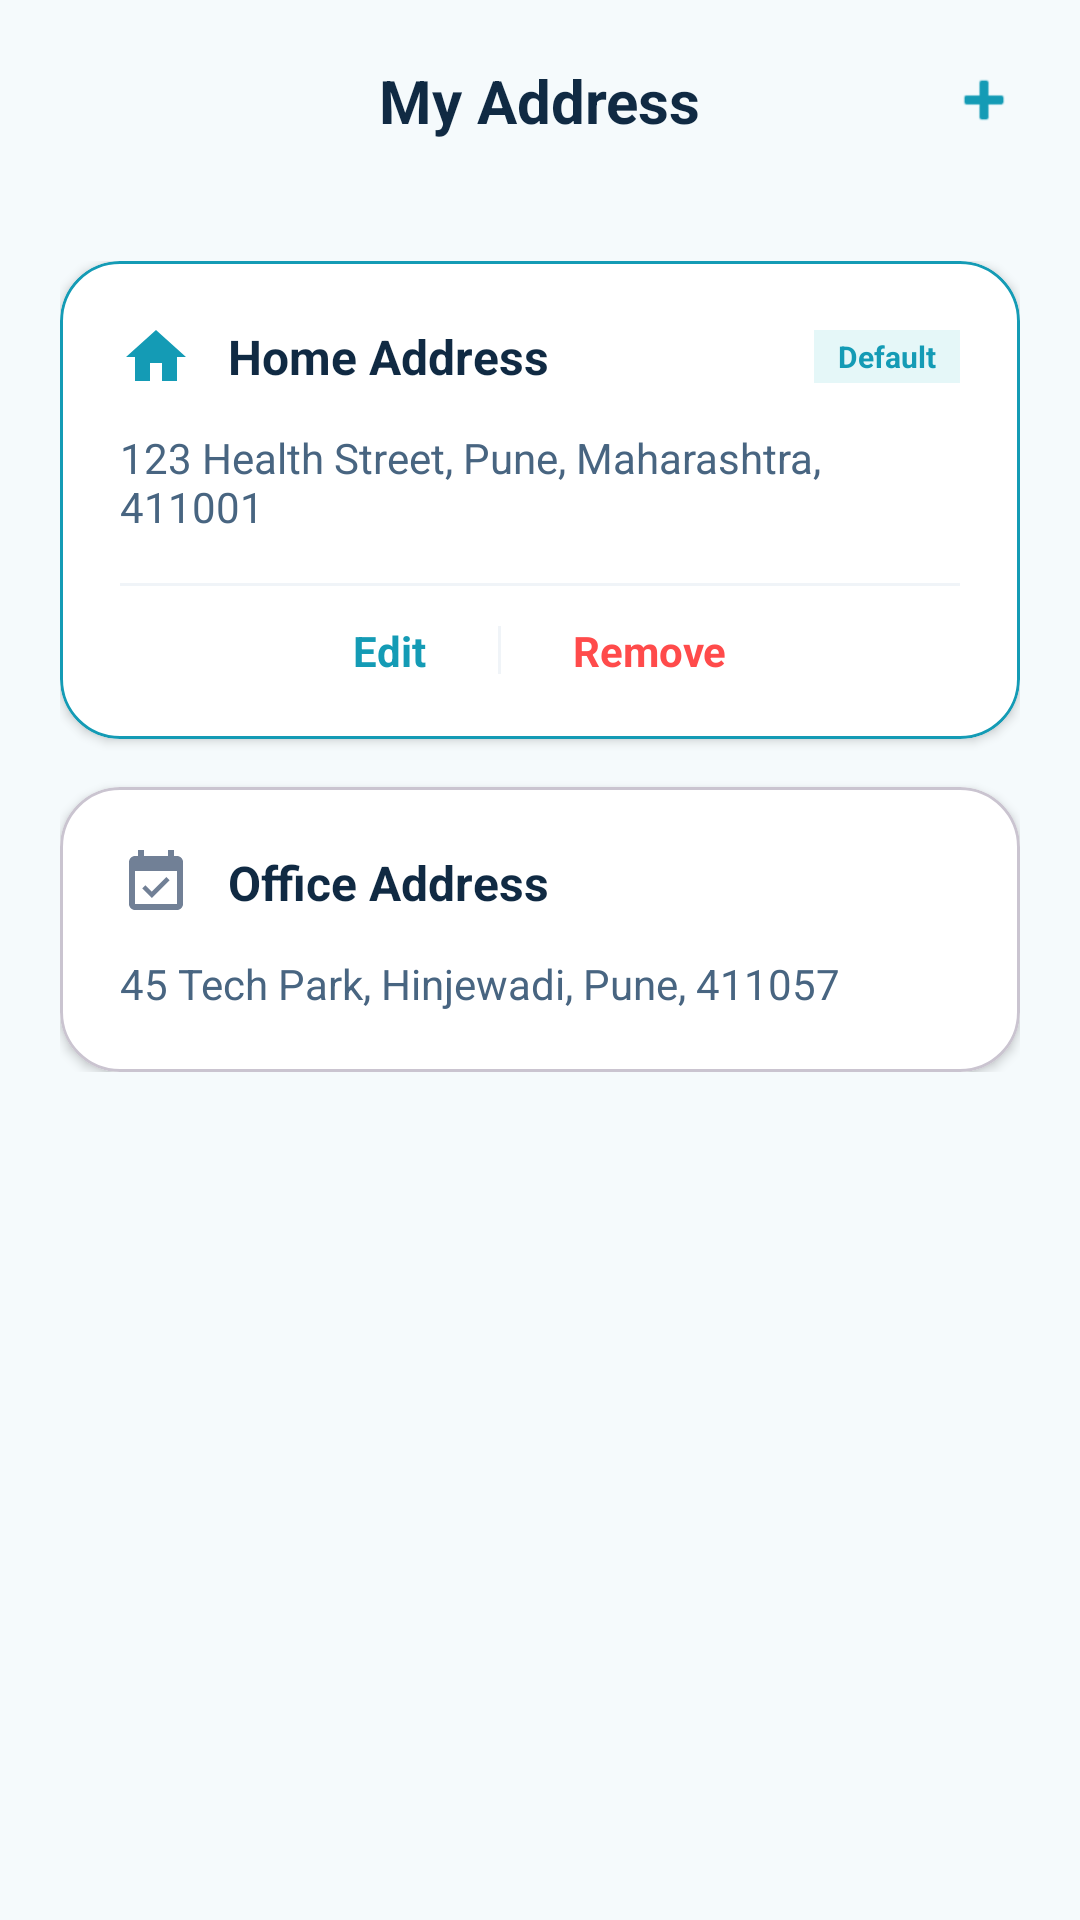

Icon click points for this 1080*1920 phone screenshot, format point (x, y):
Add Address: point (984, 100)
